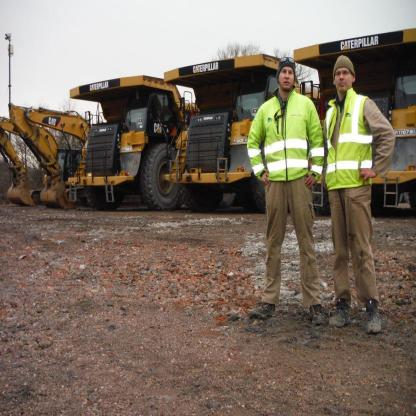dump_truck: (166, 51, 276, 201), (64, 69, 168, 214)
person: (318, 43, 401, 339), (238, 55, 321, 314)
